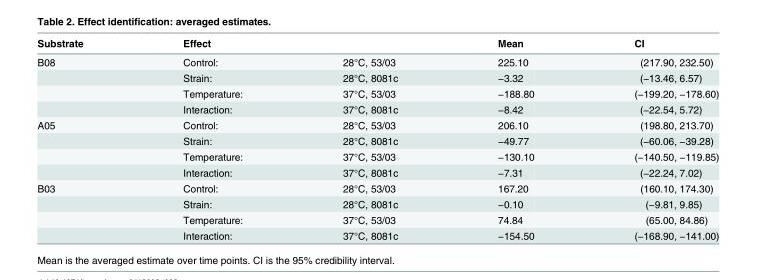table: (36, 36, 718, 241)
table column: (132, 36, 292, 241), (292, 36, 447, 241), (447, 36, 583, 241), (583, 36, 718, 241), (36, 36, 132, 241)
table column header: (36, 36, 718, 52)
table row: (36, 52, 718, 69), (36, 36, 718, 52), (36, 69, 718, 85), (36, 85, 718, 101), (36, 116, 718, 132), (36, 132, 718, 148), (36, 148, 718, 164), (36, 179, 718, 195), (36, 195, 718, 211), (36, 211, 718, 227), (36, 101, 718, 116), (36, 164, 718, 179), (36, 227, 718, 241)
table spanning cell: (36, 52, 132, 116), (36, 116, 132, 179), (36, 179, 132, 241)
